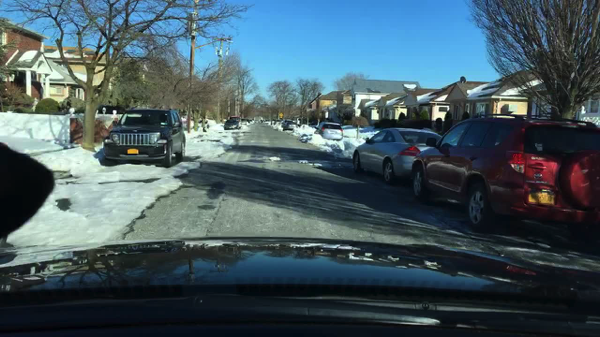car: (409, 111, 599, 241), (350, 126, 444, 185), (102, 107, 188, 169), (313, 121, 345, 142), (223, 119, 239, 131), (283, 120, 294, 131), (281, 118, 294, 126), (240, 117, 247, 125), (265, 119, 269, 125), (272, 119, 276, 125), (247, 118, 251, 124)
traffic sign: (278, 113, 283, 120)
truck: (228, 115, 242, 128)
